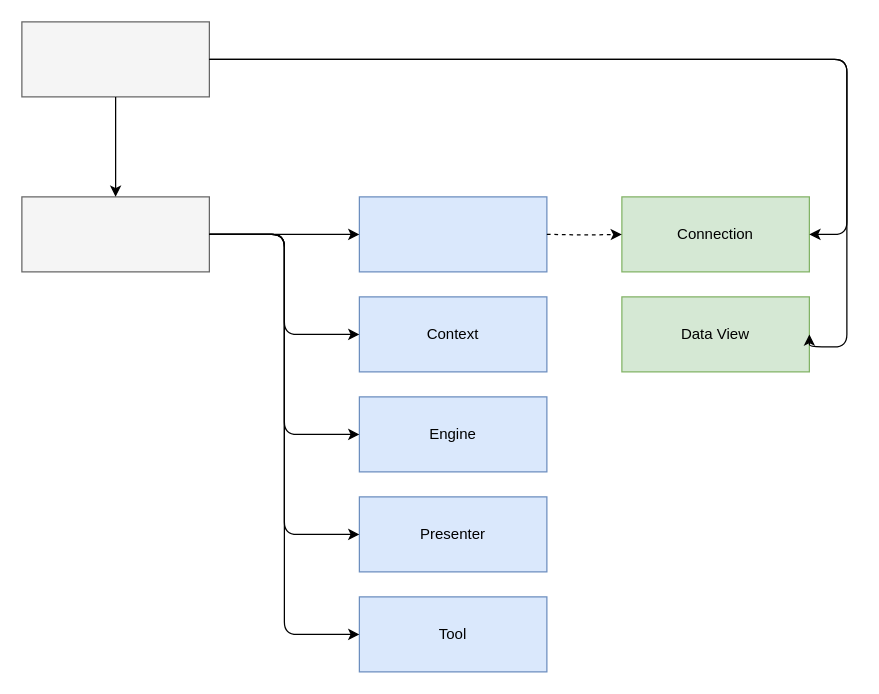
The diagram is 879 pixels wide and 694 high, and some of its shapes have lost their labels. Here are the shapes that lost their labels. From the top down, the centre of each, then its label:
point (115, 59): Component
point (115, 234): Module
point (452, 234): Connector
